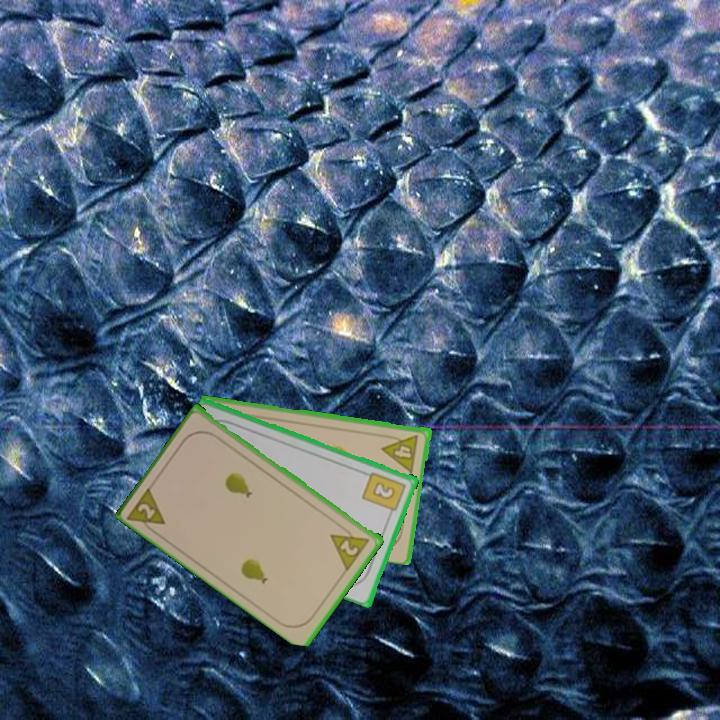2b: (359, 468, 409, 519)
2p: (124, 482, 169, 538), (327, 521, 373, 572)
4p: (380, 430, 421, 474)
